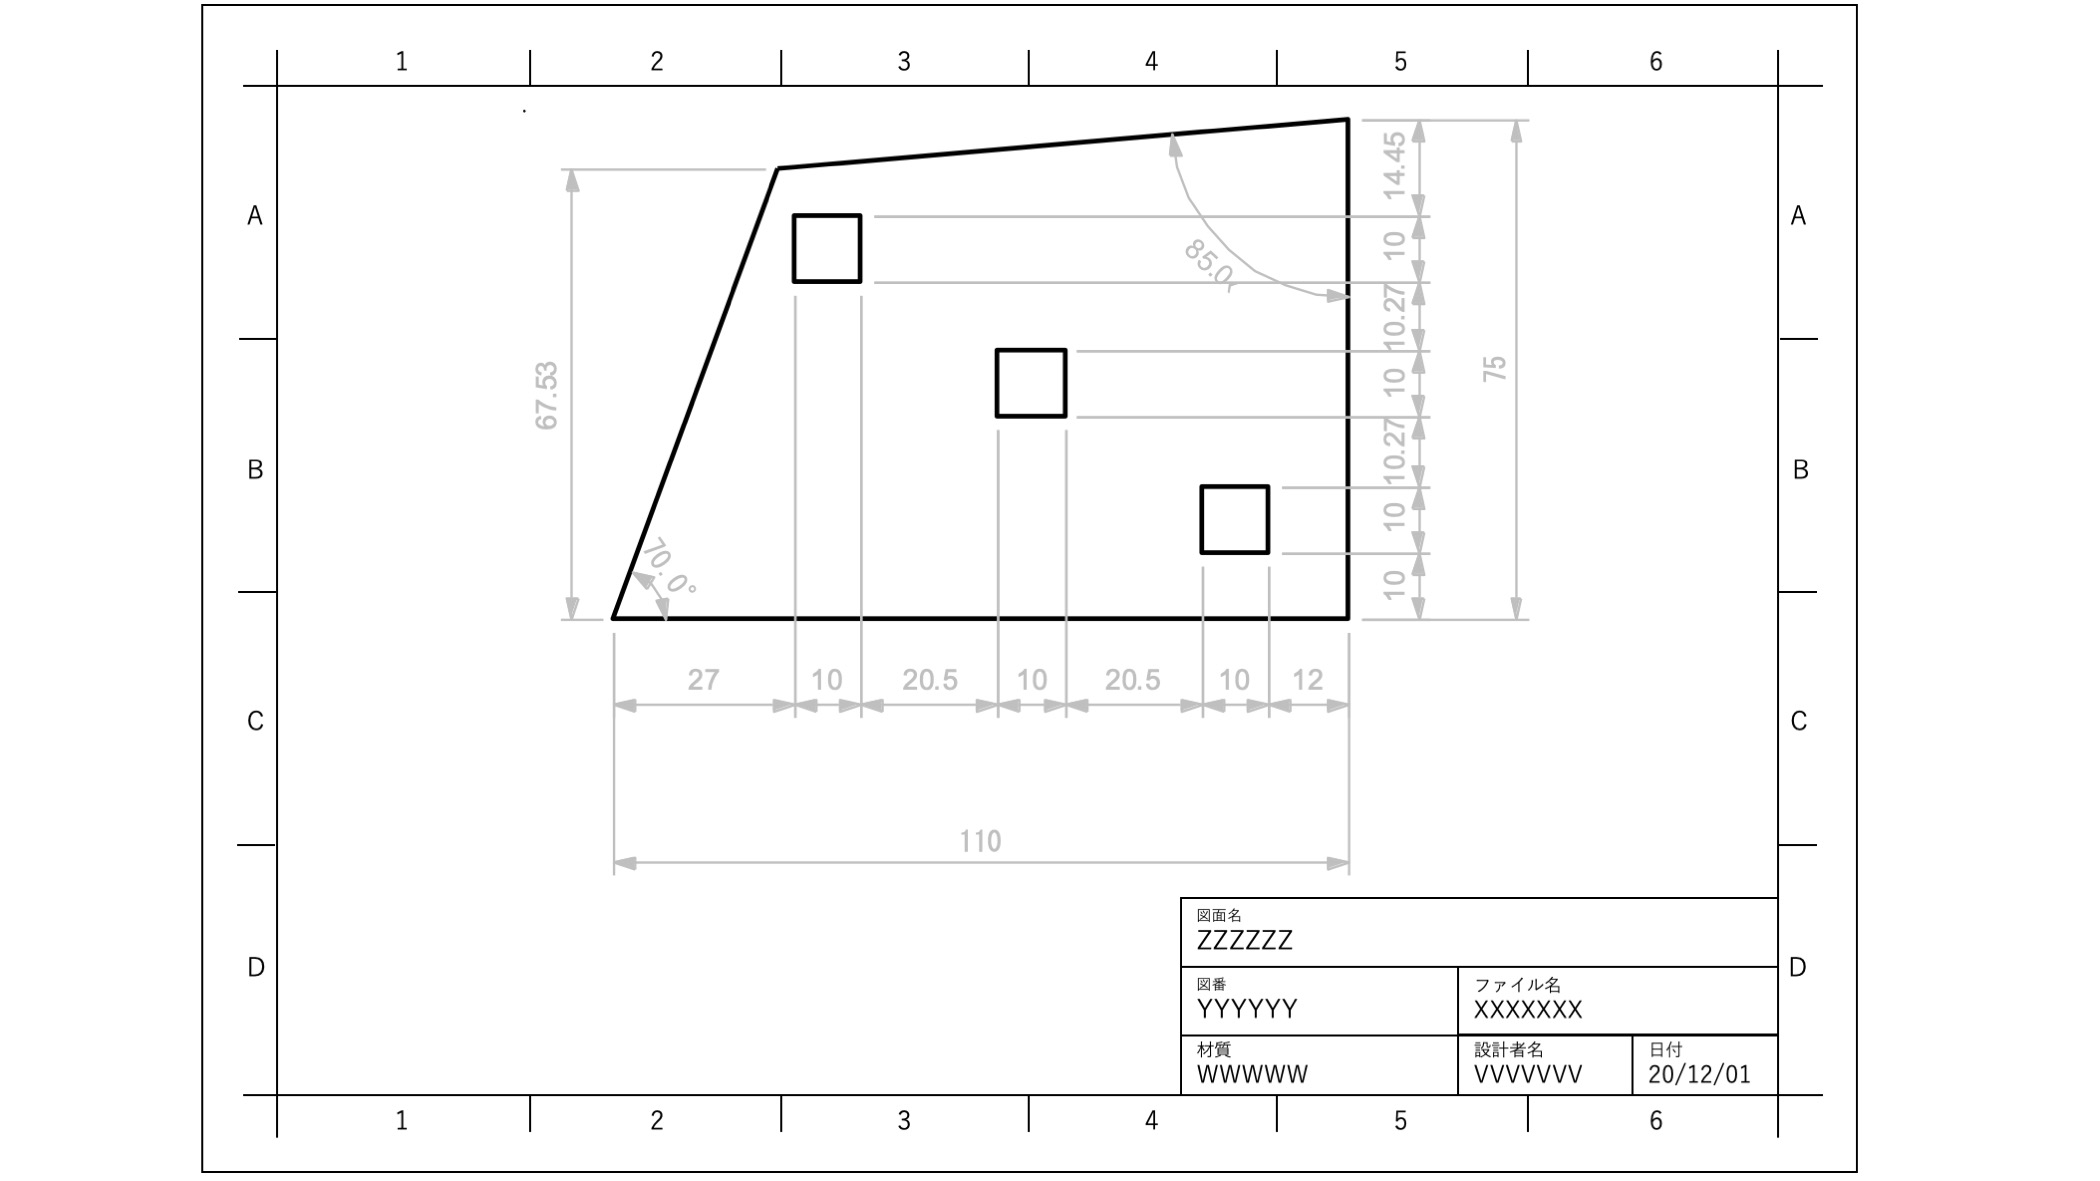rectangle: (989, 339, 1073, 425), (785, 208, 867, 291), (1194, 477, 1274, 559)
